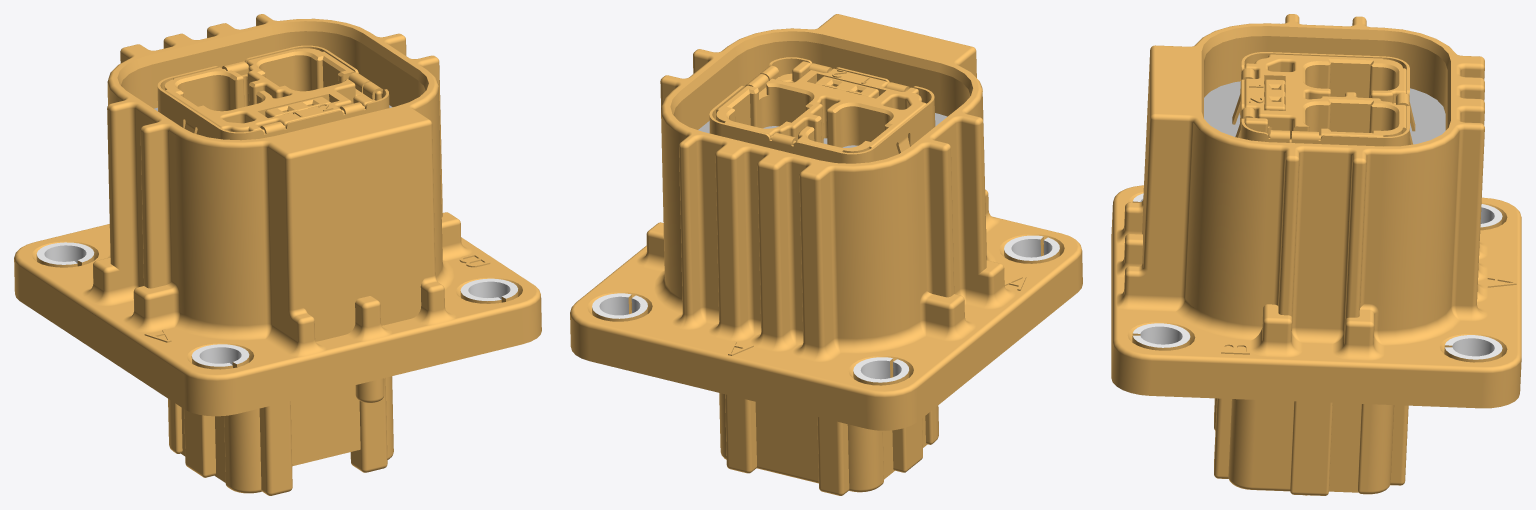
File: EVH2-N2ZJ-TA CAD.glb
3 views of the same model, side by side, from view 1: azimuth 30°, elevation 25°; view 2: azimuth 150°, elevation 25°; view 3: azimuth 270°, elevation 25° (orthographic). The views are drawn at different scales.
Visible parts, largest first — view 1: EVH2-N2ZJ-TA CAD; view 2: EVH2-N2ZJ-TA CAD; view 3: EVH2-N2ZJ-TA CAD.
Part boxes in pixels (<box>): EVH2-N2ZJ-TA CAD: <box>14,14,541,495</box>; EVH2-N2ZJ-TA CAD: <box>570,14,1082,495</box>; EVH2-N2ZJ-TA CAD: <box>1111,14,1521,495</box>.
Size of the model in its own units: 4.23 by 4.31 by 4.24.
